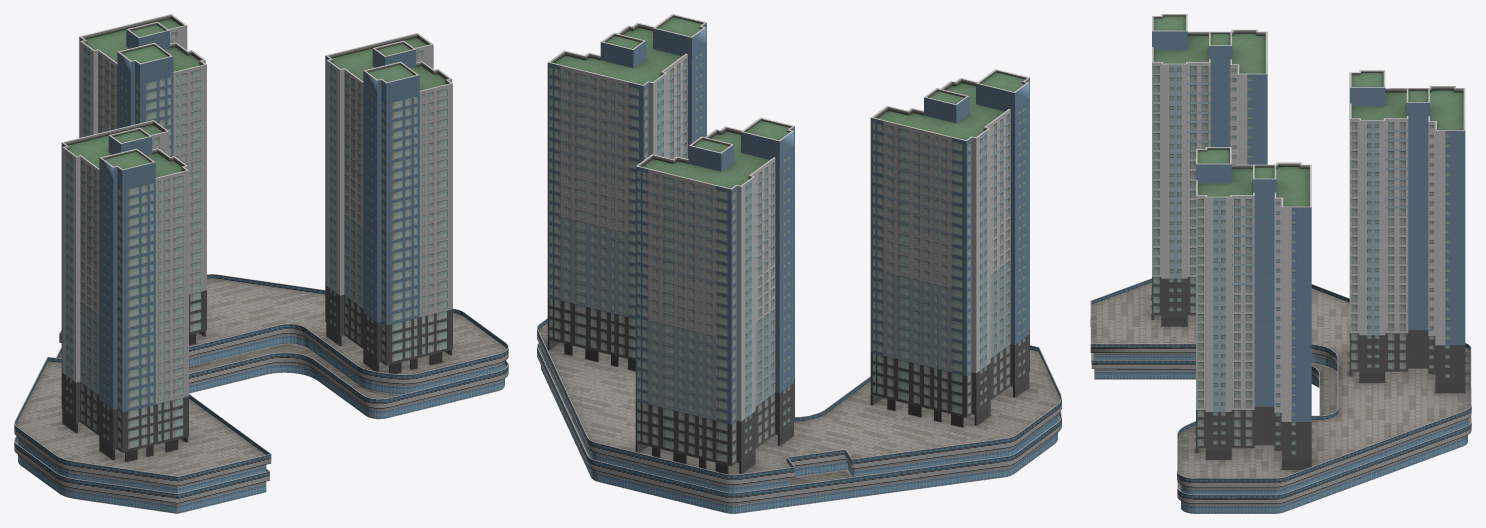
The picture shows the model from 3 angles, left to right: view 1: azimuth 30°, elevation 25°; view 2: azimuth 150°, elevation 25°; view 3: azimuth 270°, elevation 25°; orthographic projection. The views are drawn at different scales.
Visible parts, largest first — view 1: MainBuilding; view 2: MainBuilding; view 3: MainBuilding.
Boxes of the visible parts, box(x1,y1,x2,y2) form: MainBuilding: box(14, 14, 508, 513); MainBuilding: box(537, 14, 1061, 513); MainBuilding: box(1090, 14, 1471, 513).
Bounding box in the file's own units: 1.36 × 0.9405 × 1.04.
1 material, 1 textured.
